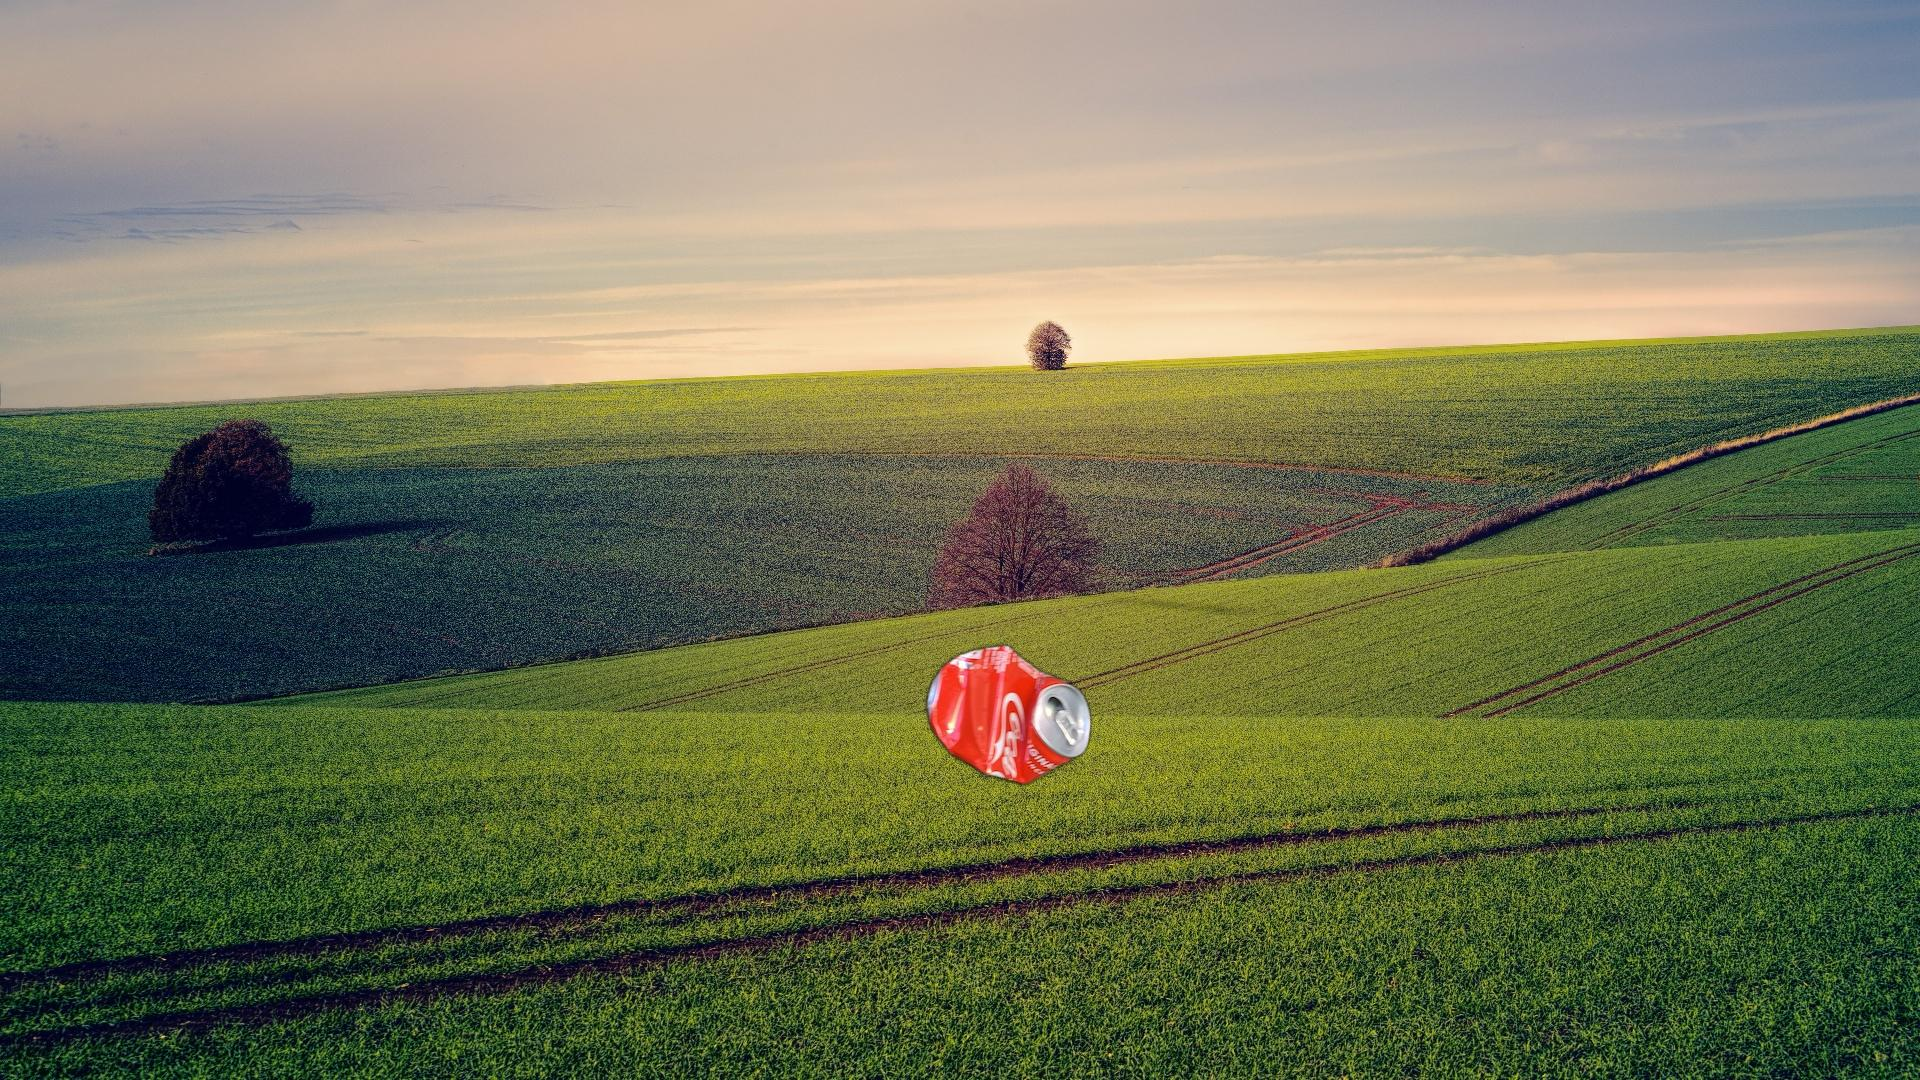metal-cans: (825, 429, 1337, 1080)
